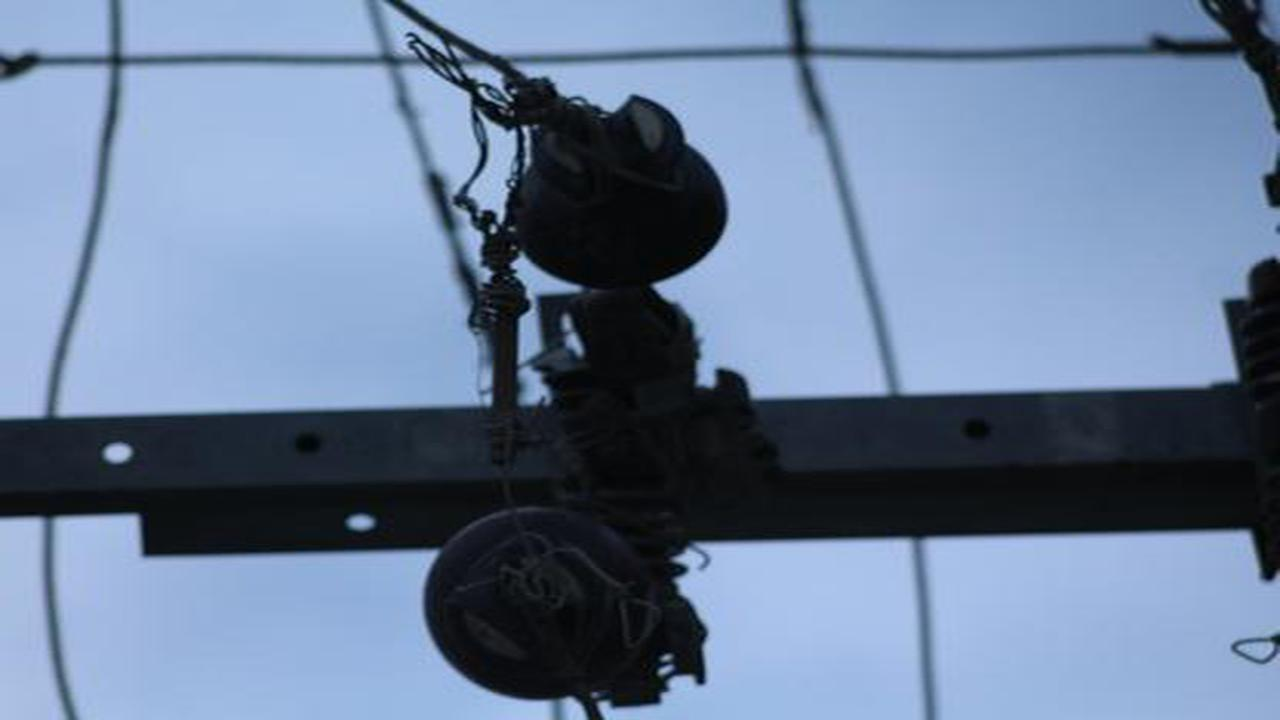insulator_pin: (420, 492, 680, 701), (506, 75, 732, 289)
